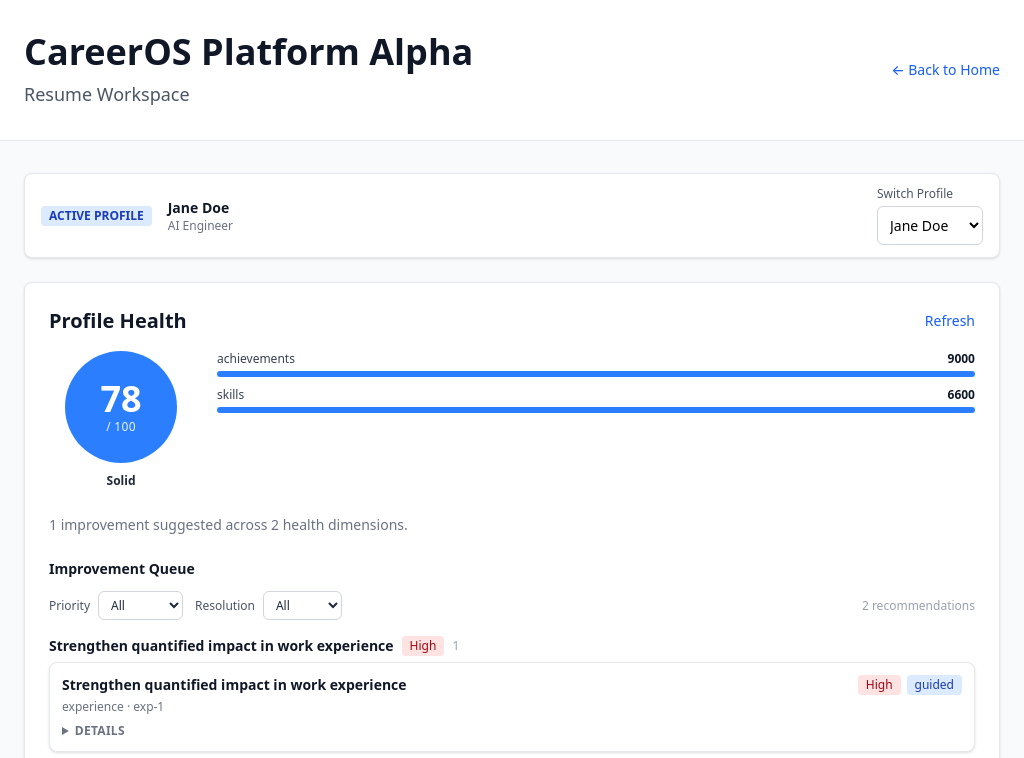
Test: ArtifactWorkspacePage › profile switching › updates profile health after switching to another imported profile
Expected: the element with test id "health-score" is shown, [65,351,177,463]
Expected: the element with test id "health-score" shows "78", [100,374,142,423]
Select "Bob Smith" in the dropdown labelled "Switch Profile" at coordinates (930, 226), box [877,206,983,245]
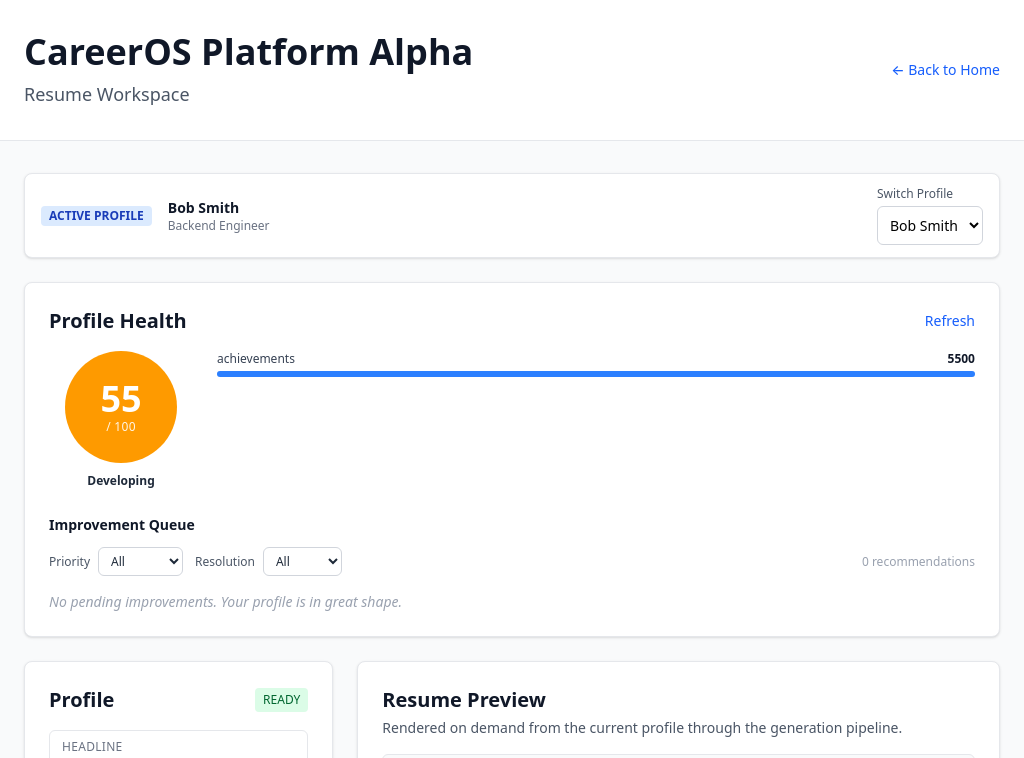
Expected: the text with test id "active-profile-name" reads "Bob Smith", [168,198,239,216]
Expected: the element with test id "health-score" shows "55", [100,374,142,423]
